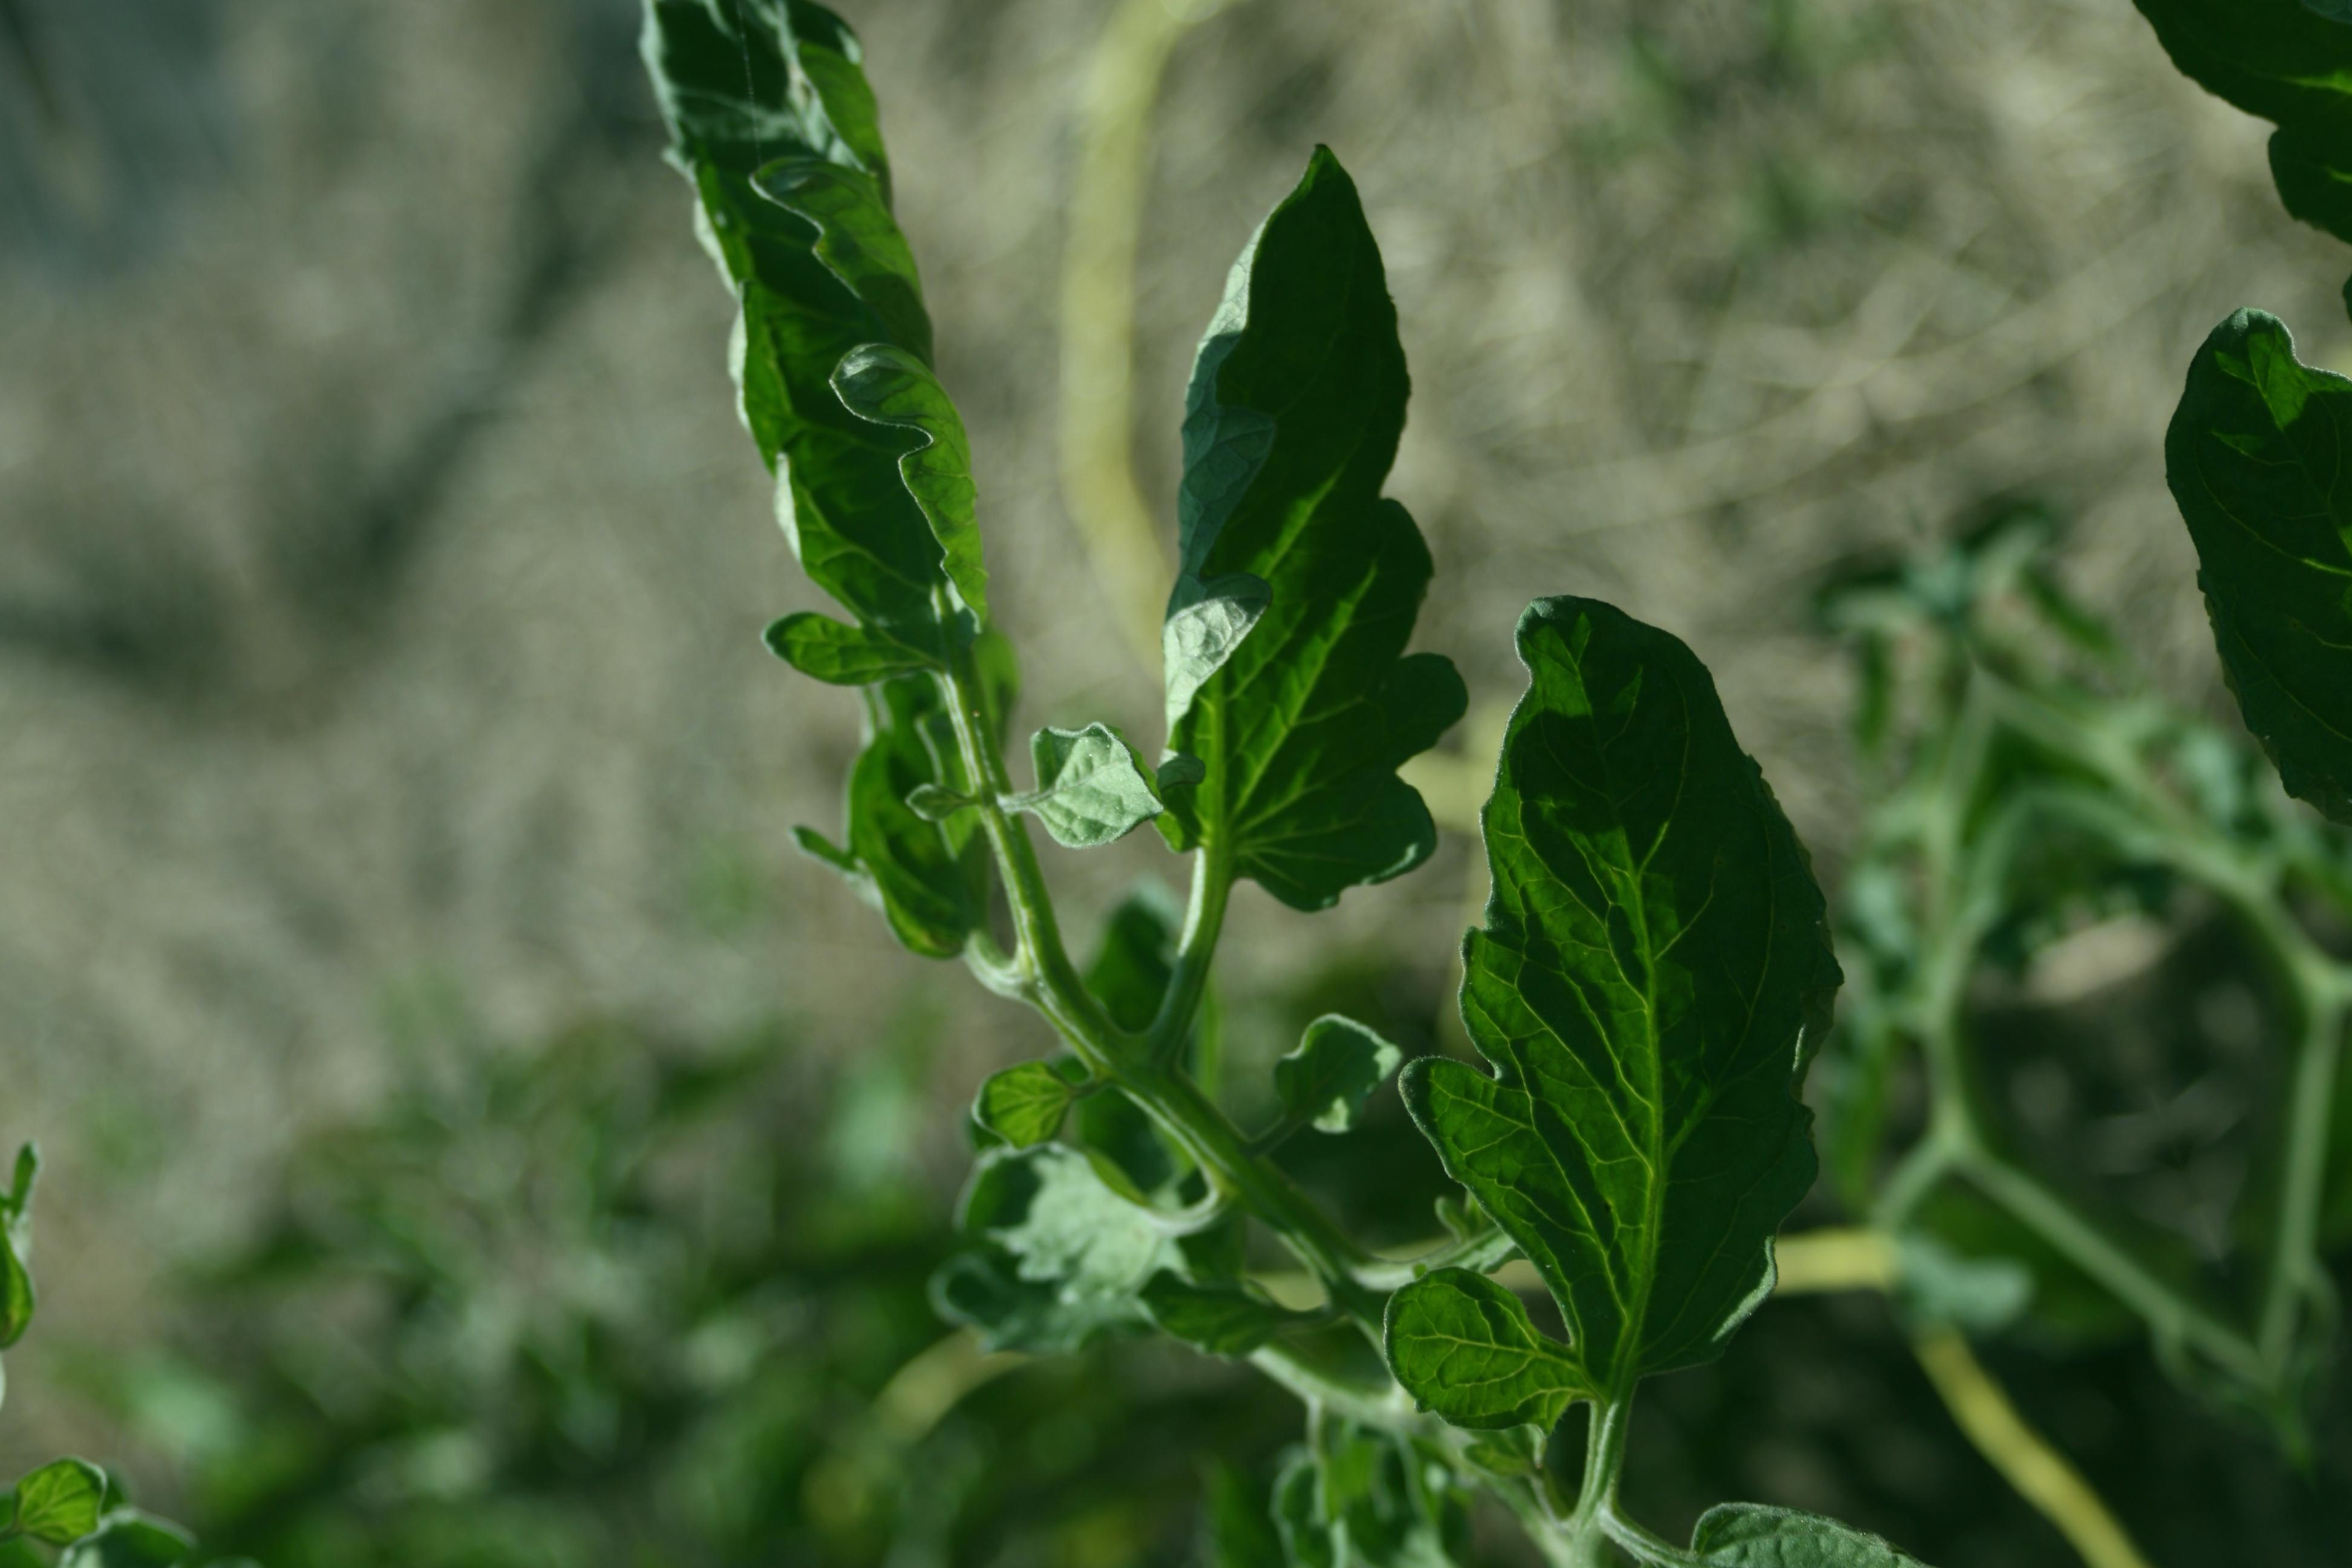Tomato leaf: (1222, 534, 2016, 1498), (469, 0, 1155, 843), (936, 139, 1610, 943)
